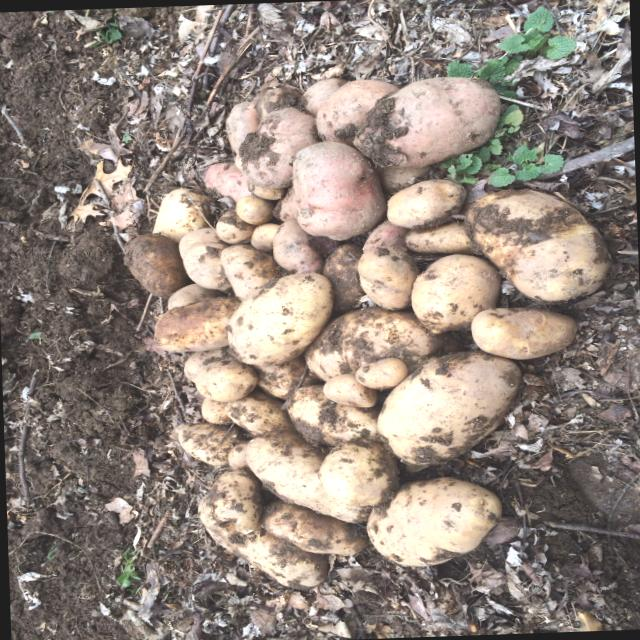potato: (364, 477, 500, 568), (226, 263, 334, 367), (409, 250, 497, 334), (470, 302, 575, 365), (144, 291, 240, 352), (384, 175, 466, 226), (171, 418, 237, 467), (356, 352, 405, 389)
